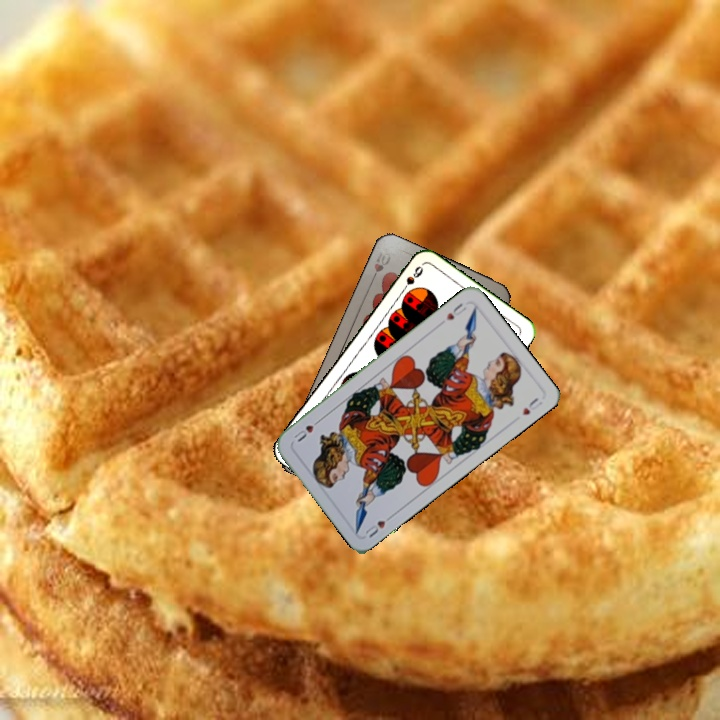H10: (367, 245, 394, 285)
HU: (361, 510, 396, 540), (442, 299, 469, 323)
S9: (396, 262, 426, 297)
